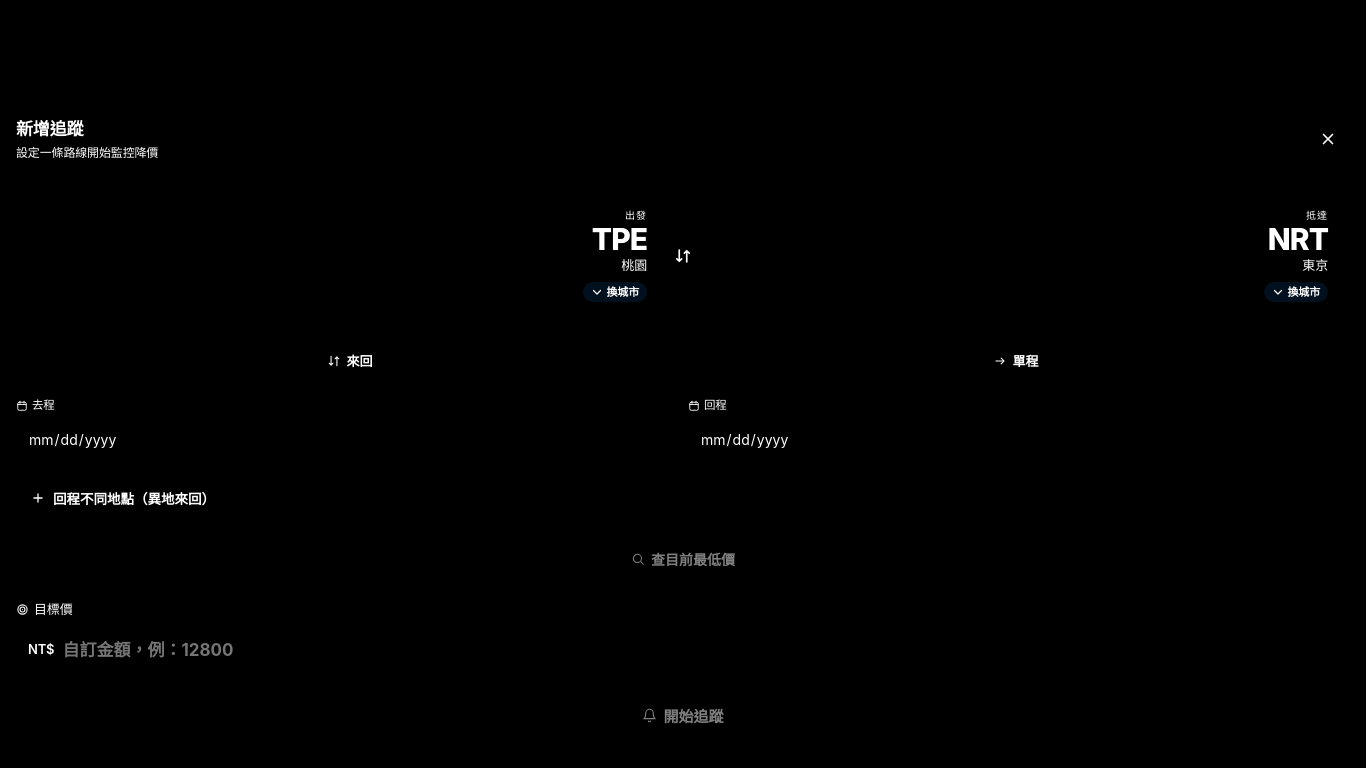
it: AddWatchSheet › add-success calm state → 顯示路線 + 目標價 + 接下來 3 行（PR #21 §4.9）
In the date field labelled "去程": (347,439) left=16, top=418, right=678, bottom=460, type "2026-09-01"
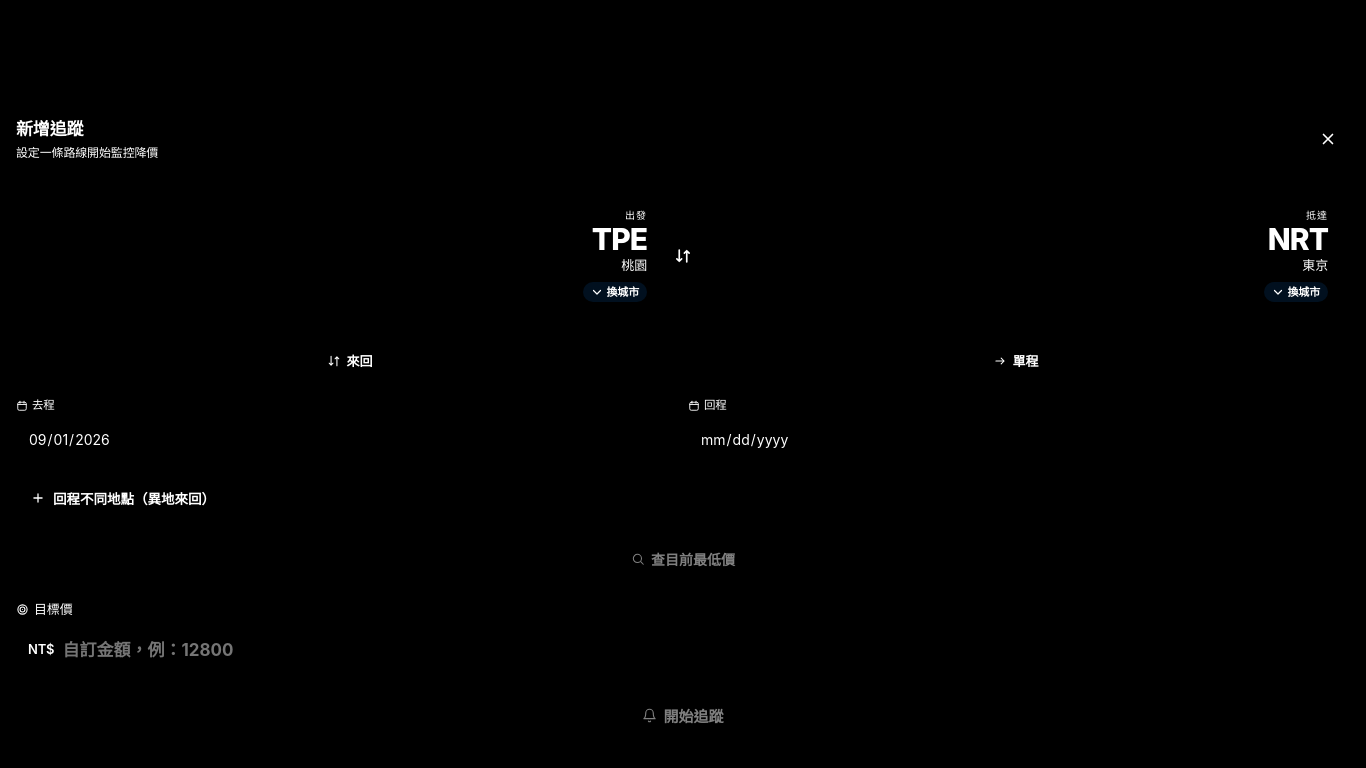
In the date field labelled "回程": (1019,439) left=688, top=418, right=1350, bottom=460, type "2026-09-05"
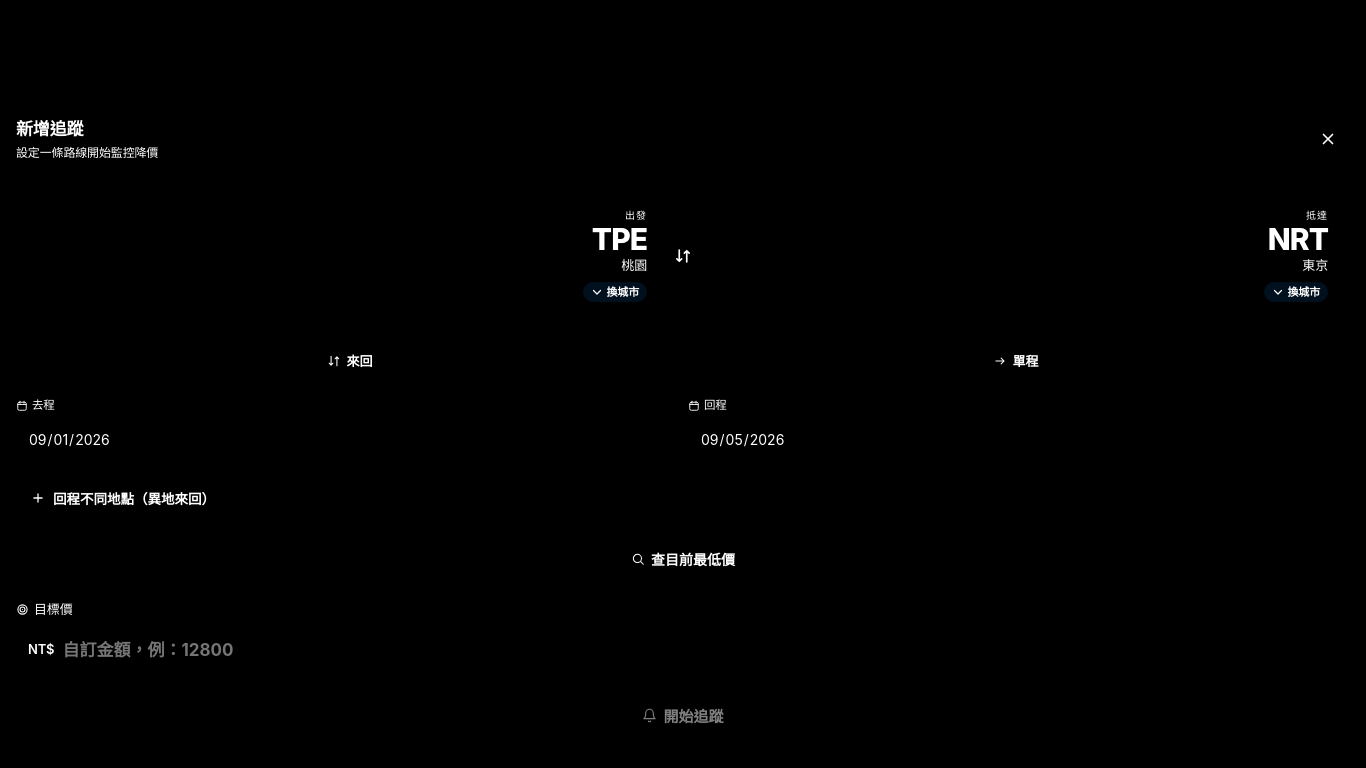
In the number field with test id "target-amount": (700,650) left=62, top=627, right=1338, bottom=673, type "13000"
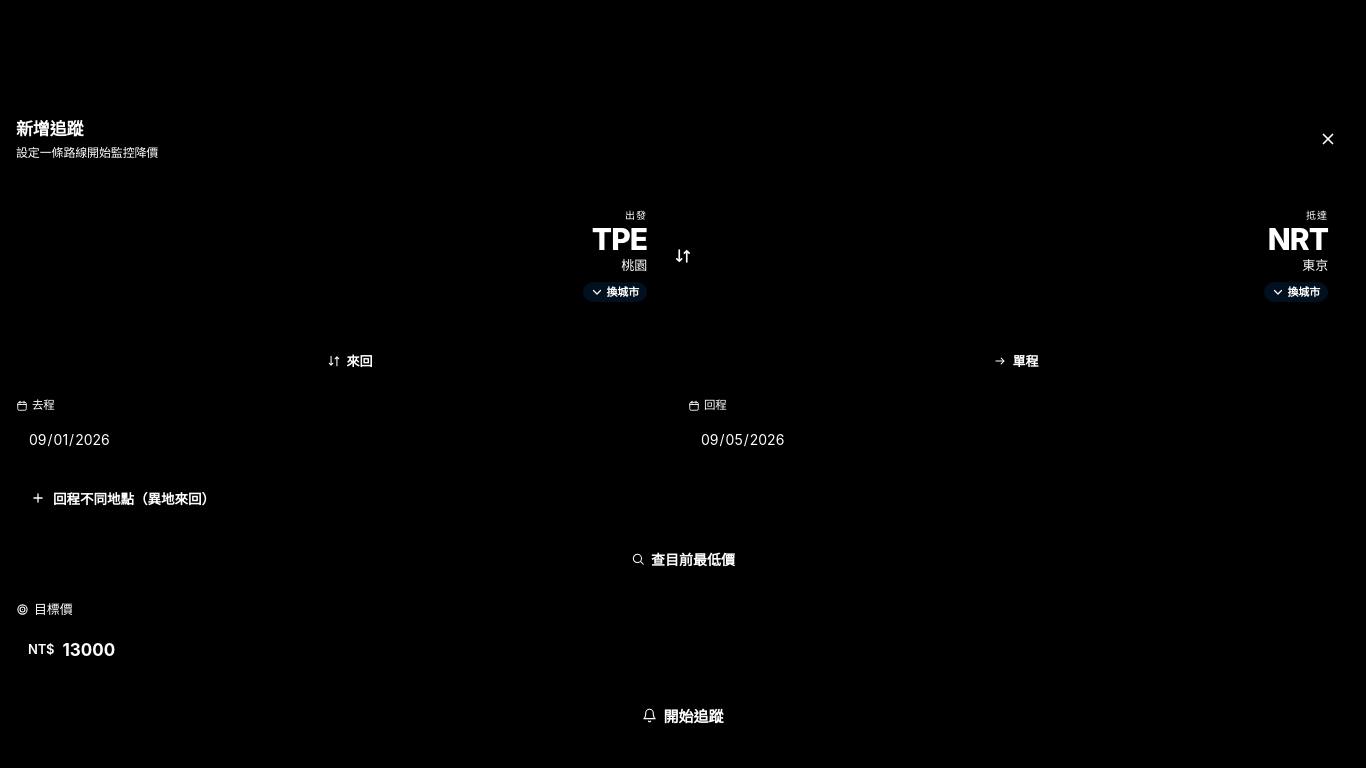
Click the button "開始追蹤": (683,716) left=16, top=691, right=1350, bottom=740
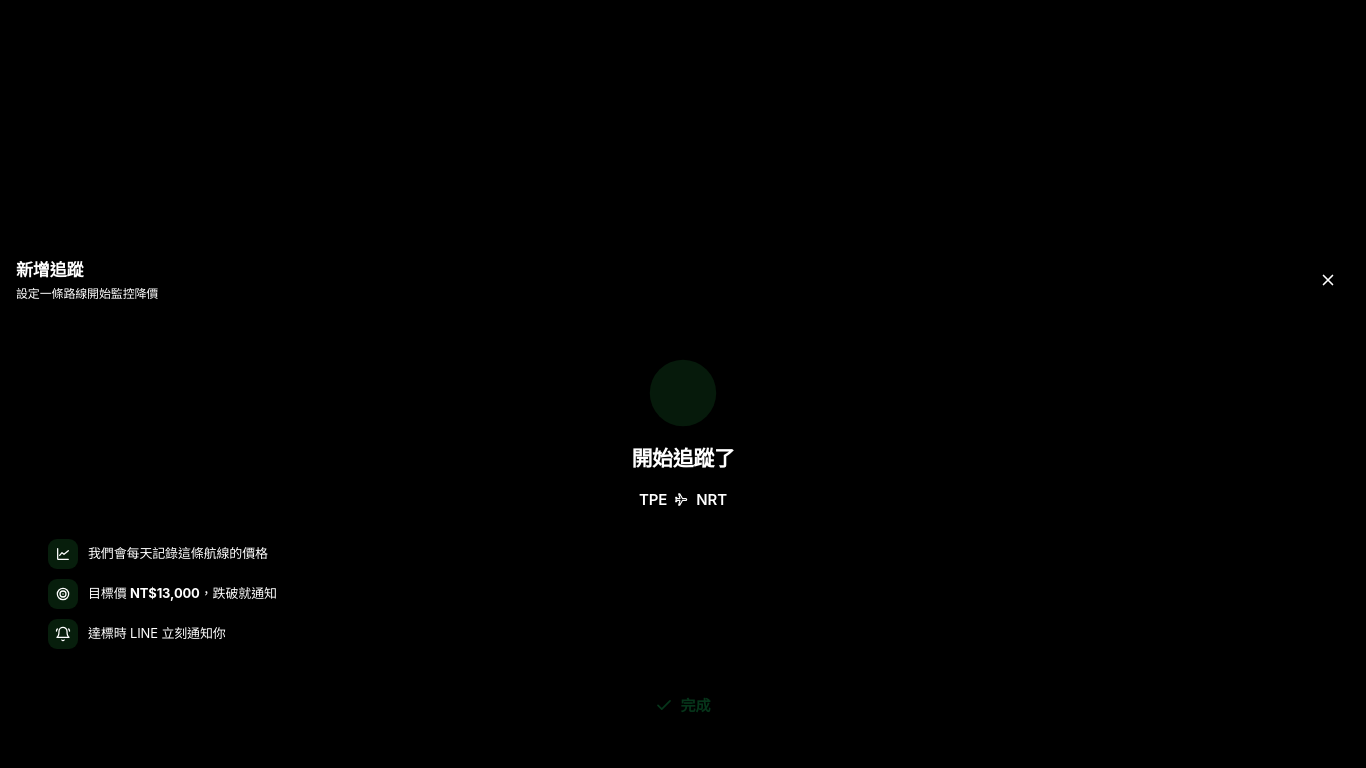
Check: the element with test id "add-success" is shown, box left=16, top=329, right=1350, bottom=740
Check: the text "開始追蹤了" is shown, box left=632, top=443, right=734, bottom=474
Check: the text "13,000" is shown, box left=157, top=585, right=200, bottom=601
